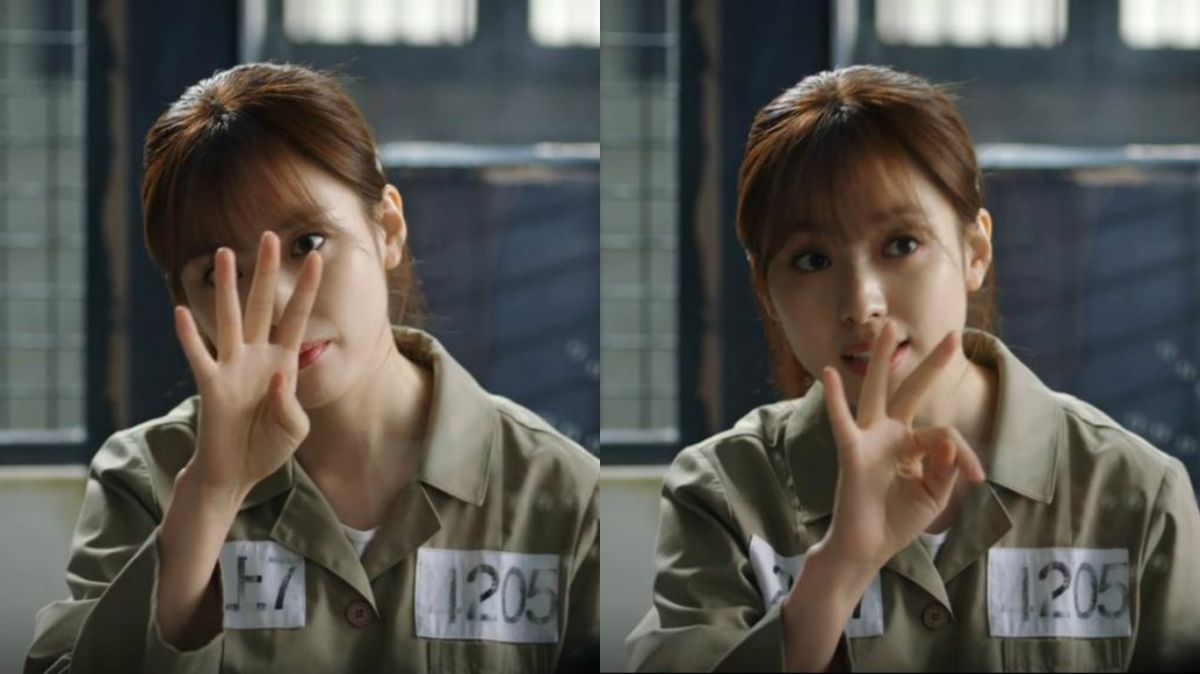face: (170, 158, 390, 415), (780, 160, 972, 410)
